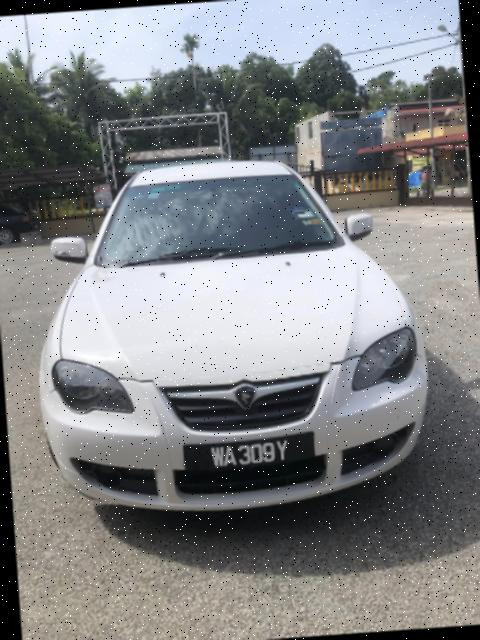License_Plate: (189, 437, 305, 476)
car: (28, 147, 443, 543)
